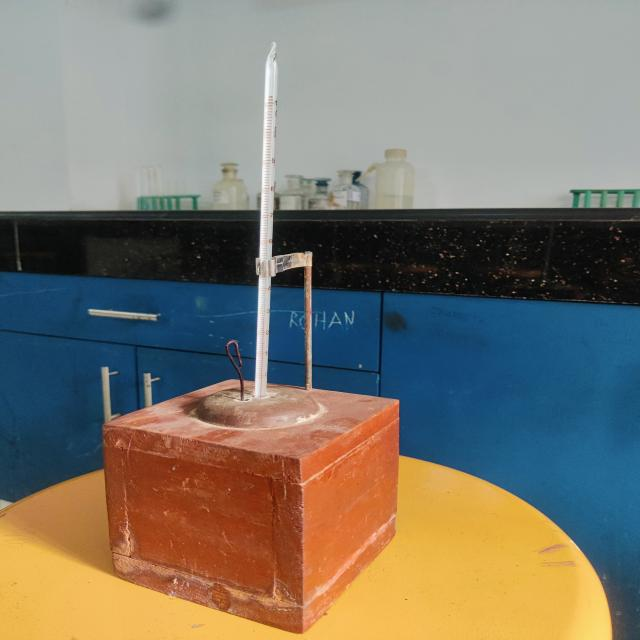Calorimeter: (78, 24, 460, 640)
